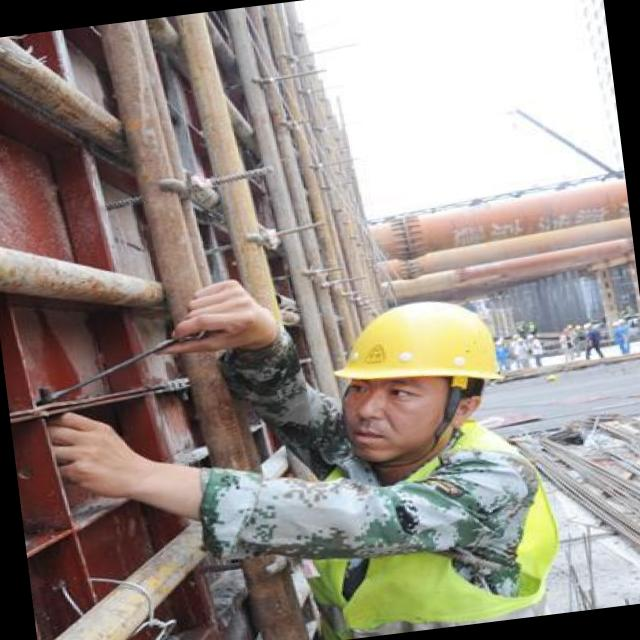helmet: (299, 276, 529, 484)
